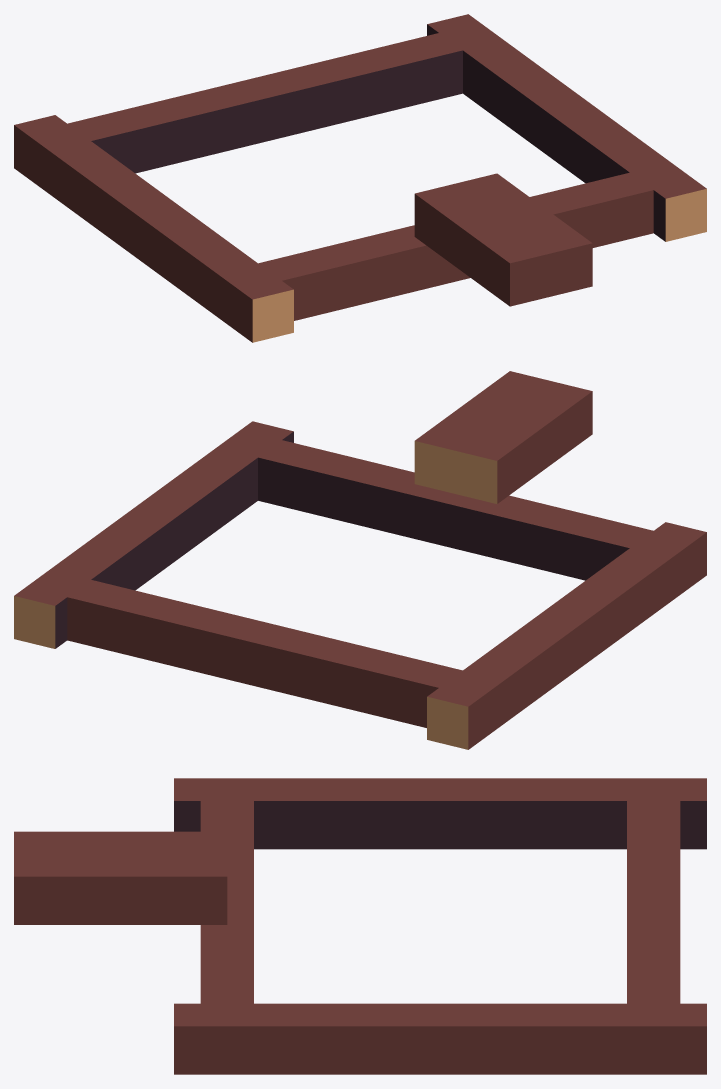
Rendered from Basket.gltf.
3 views of the same model, one above another, from view 1: azimuth 30°, elevation 25°; view 2: azimuth 150°, elevation 25°; view 3: azimuth 270°, elevation 25° (orthographic). The views are drawn at different scales.
Visible parts, largest first — view 1: mesh; view 2: mesh; view 3: mesh.
Part boxes in pixels (x1,y1,x2,y2): mesh: (14, 14, 706, 342); mesh: (14, 371, 706, 749); mesh: (14, 778, 706, 1074).
Bounding box in the file's own units: 0.6875 × 0.125 × 0.8125.
1 material, 1 textured.
